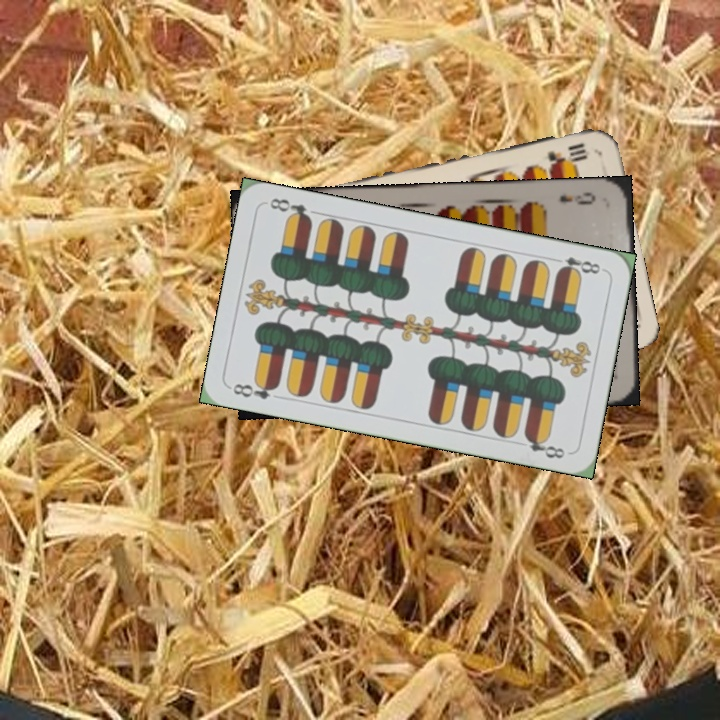E10: (537, 139, 590, 171)
E8: (548, 252, 603, 278), (229, 376, 282, 402)
E9: (555, 188, 598, 208)
